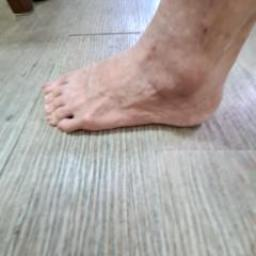Lateral View -Left Foot-: (24, 16, 250, 149)
